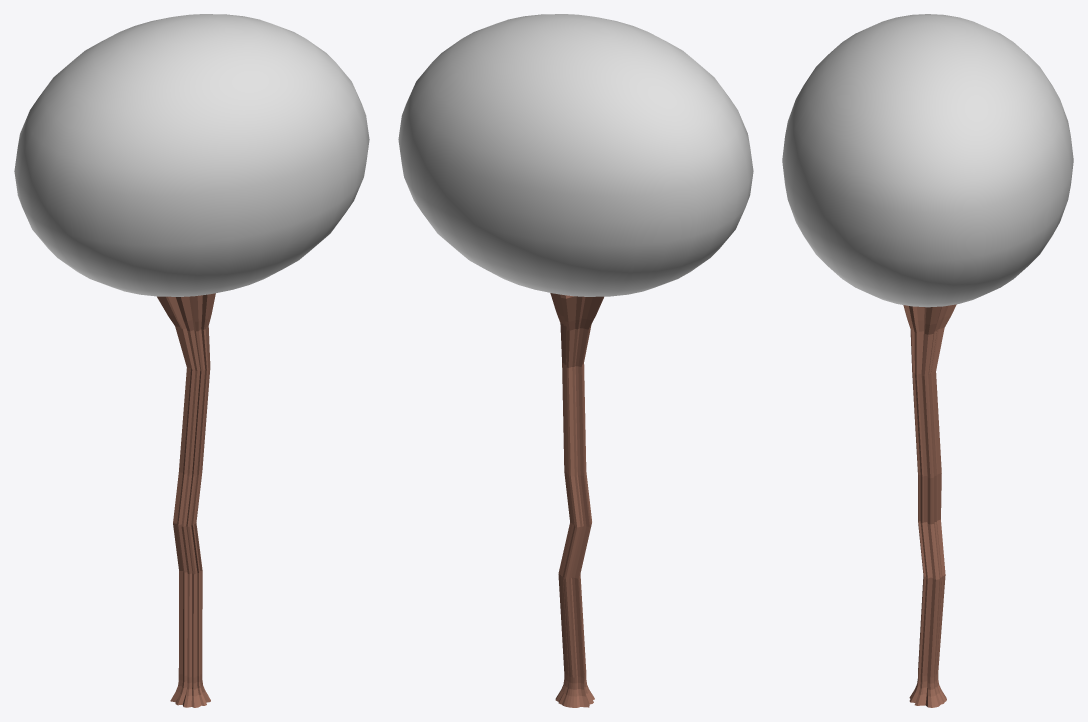
Rendered from arbol_3.fbx.
3 renders of one model, left to right at view 1: azimuth 30°, elevation 25°; view 2: azimuth 150°, elevation 25°; view 3: azimuth 270°, elevation 25°, orthographic.
Visible parts, largest first — view 1: Arbol_3; view 2: Arbol_3; view 3: Arbol_3.
Part boxes in pixels (bbox=[...]): Arbol_3: bbox=[14, 14, 369, 707]; Arbol_3: bbox=[398, 14, 753, 707]; Arbol_3: bbox=[782, 14, 1073, 707].
Bounding box in the file's own units: 493 × 976 × 389.
